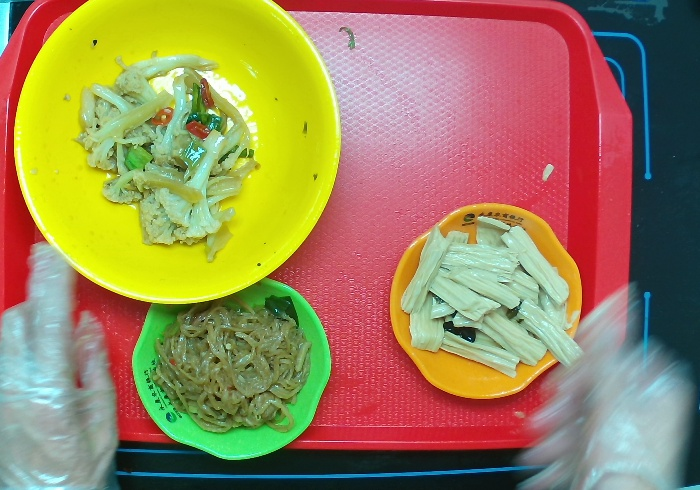YKMZ-Huang_Se_Tang_Wan: (9, 1, 341, 304)
YKMZ-Ju_Se_Ao_Bian_Wan: (388, 199, 585, 400)
YKMZ-Lv_Se_Ao_Bian_Wan: (132, 280, 333, 467)
